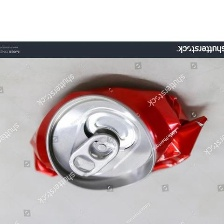can: (23, 83, 213, 192)
